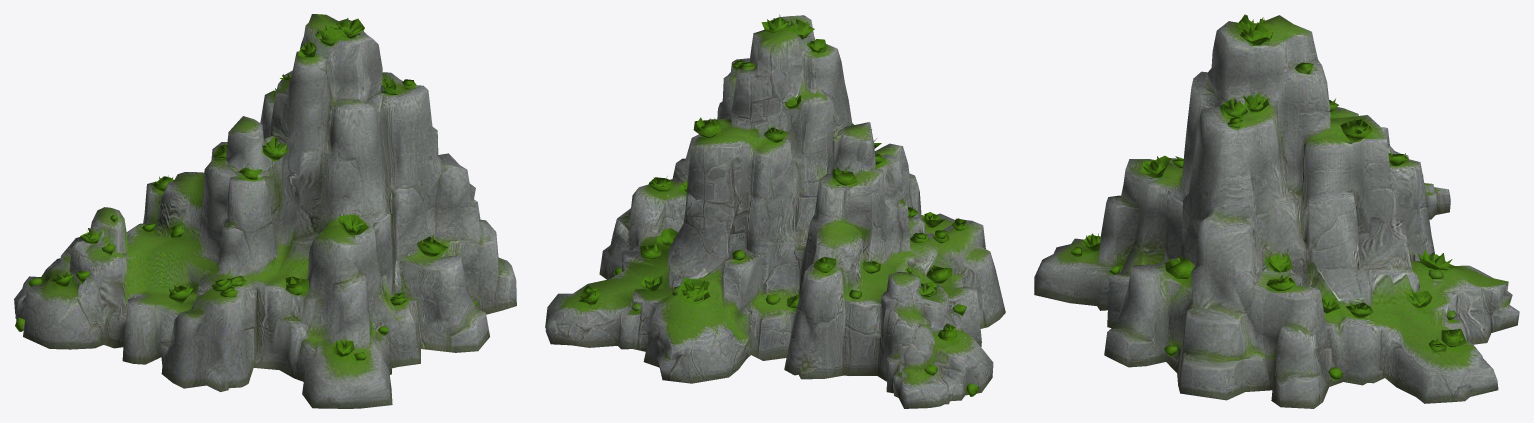
Rendered from highland_rock_cluster.glb.
3 renders of one model, left to right at view 1: azimuth 30°, elevation 25°; view 2: azimuth 150°, elevation 25°; view 3: azimuth 270°, elevation 25°, orthographic. The views are drawn at different scales.
Bounding box in the file's own units: 78.13 × 50 × 73.24.
Materials: 1 (1 with a texture image).
